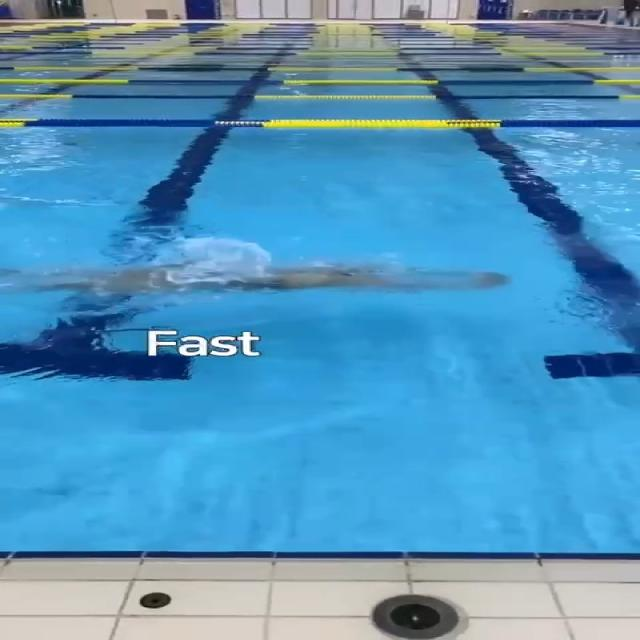Swimming: (0, 233, 537, 323)
